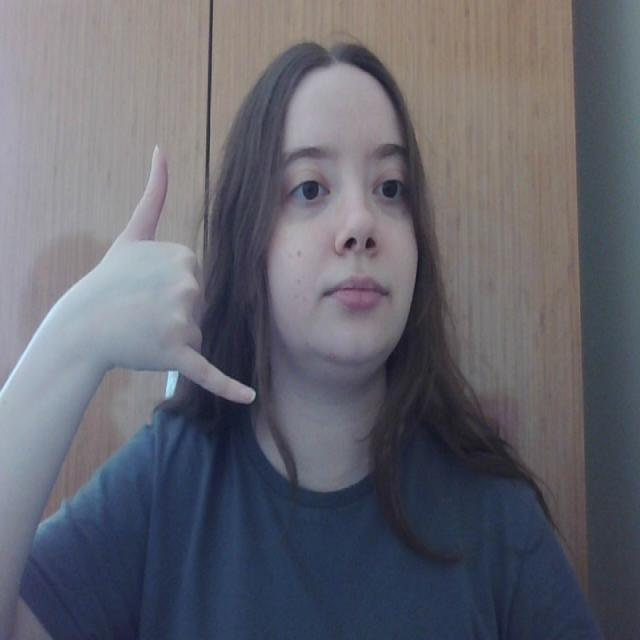Telefon: (118, 127, 260, 417)
